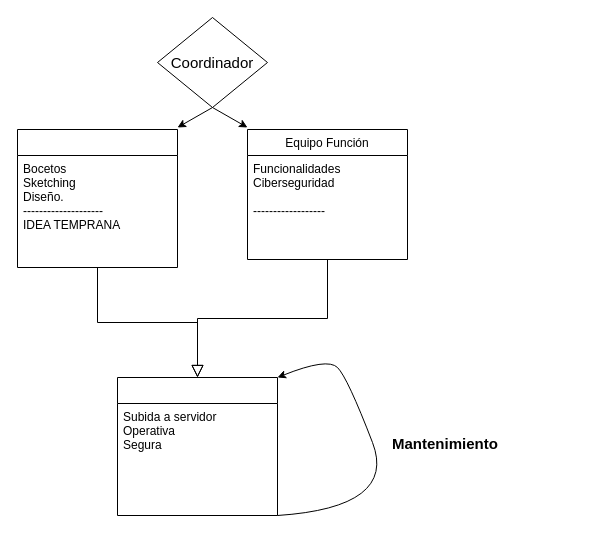
This 595x533 diagram has some shape labels left out. Here are the shapes that lost their labels. From the top down, the box of each, then its label:
(16, 128, 178, 268): Equipo Maquetación
(116, 376, 278, 516): WEB OPERATIVA
